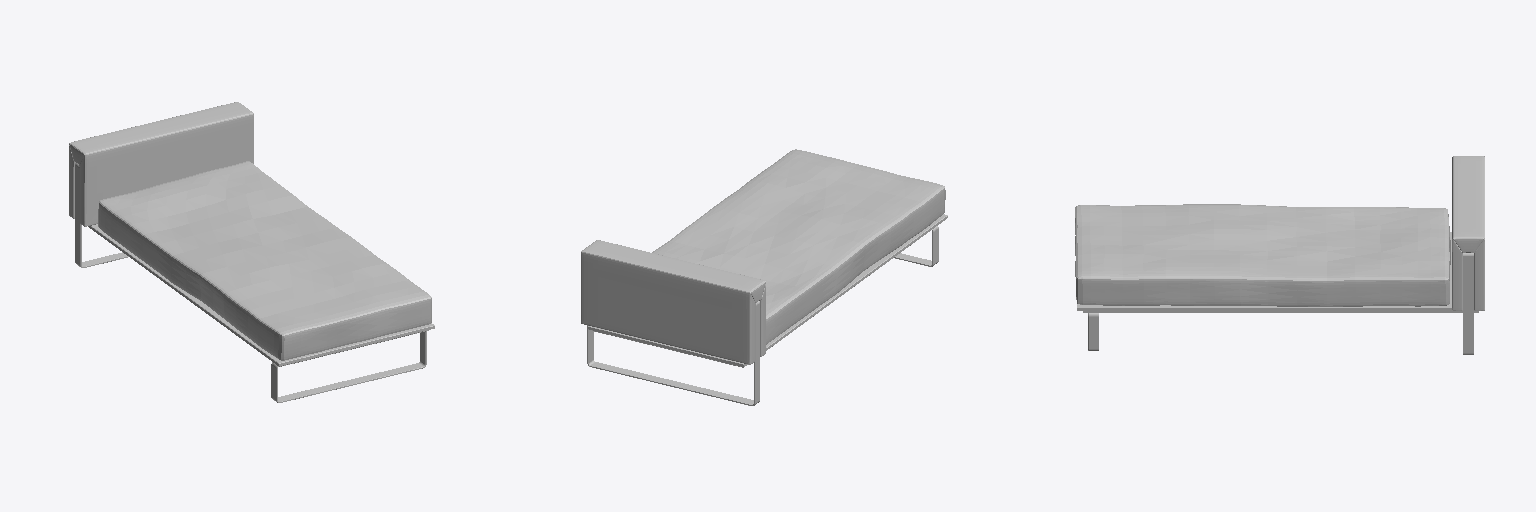
Rendered from Bed 02.obj.
3 renders of one model, left to right at view 1: azimuth 30°, elevation 25°; view 2: azimuth 150°, elevation 25°; view 3: azimuth 270°, elevation 25°, orthographic.
Parts seen in each view (by area): view 1: obj_04, obj_03, obj_05, obj_02, obj_01; view 2: obj_04, obj_03, obj_05, obj_01; view 3: obj_04, obj_03, obj_05, obj_01, obj_06.
Part boxes in pixels (x1,y1,x2,y2): obj_04: (98, 161, 431, 360); obj_03: (69, 102, 253, 226); obj_05: (88, 224, 434, 366); obj_02: (271, 331, 426, 402); obj_01: (75, 163, 128, 267); obj_04: (652, 149, 945, 344); obj_03: (581, 240, 765, 364); obj_05: (588, 214, 947, 366); obj_01: (587, 301, 759, 405); obj_04: (1075, 204, 1450, 306); obj_03: (1452, 156, 1484, 310); obj_05: (1077, 232, 1452, 310); obj_01: (1463, 253, 1473, 354); obj_06: (1083, 311, 1478, 312).
Bounding box in the file's own units: 41.71 × 27.95 × 87.13.